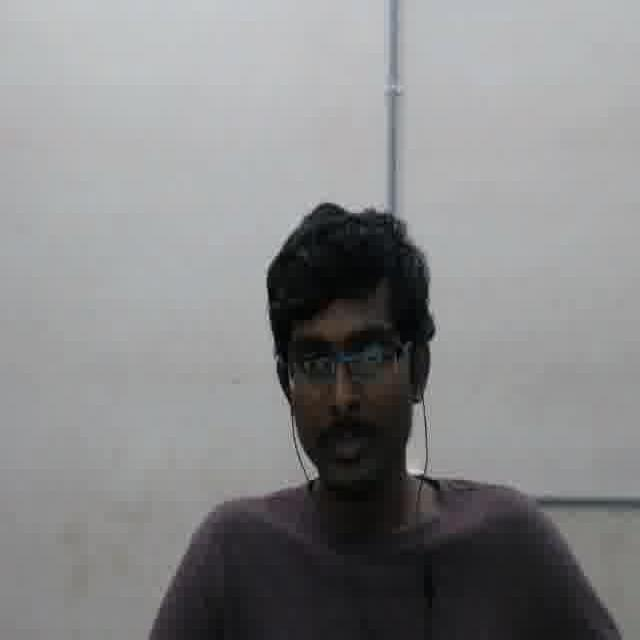Engaged: (286, 288, 409, 489)
